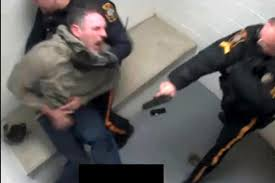gun: (138, 81, 178, 111)
